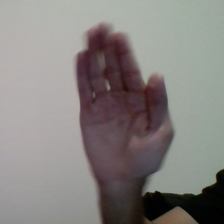left: (68, 17, 182, 185)
